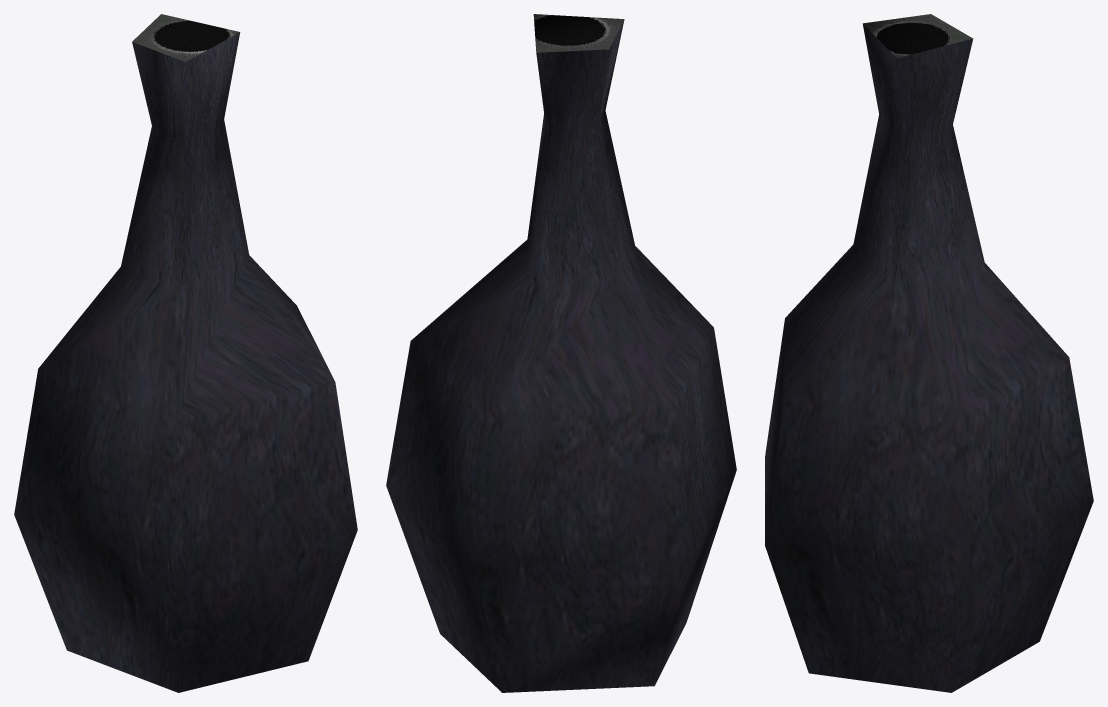
The model's file is edb_con_tato_bottle_empty_s03_l2.fbx.
3 renders of one model, left to right at view 1: azimuth 30°, elevation 25°; view 2: azimuth 150°, elevation 25°; view 3: azimuth 270°, elevation 25°, orthographic. The views are drawn at different scales.
Parts seen in each view (by area): view 1: mesh_node; view 2: mesh_node; view 3: mesh_node.
Part boxes in pixels (<box>): mesh_node: <box>14,14,357,692</box>; mesh_node: <box>386,14,736,692</box>; mesh_node: <box>765,14,1093,692</box>.
Bounding box in the file's own units: 0.2509 × 0.4831 × 0.2386.
